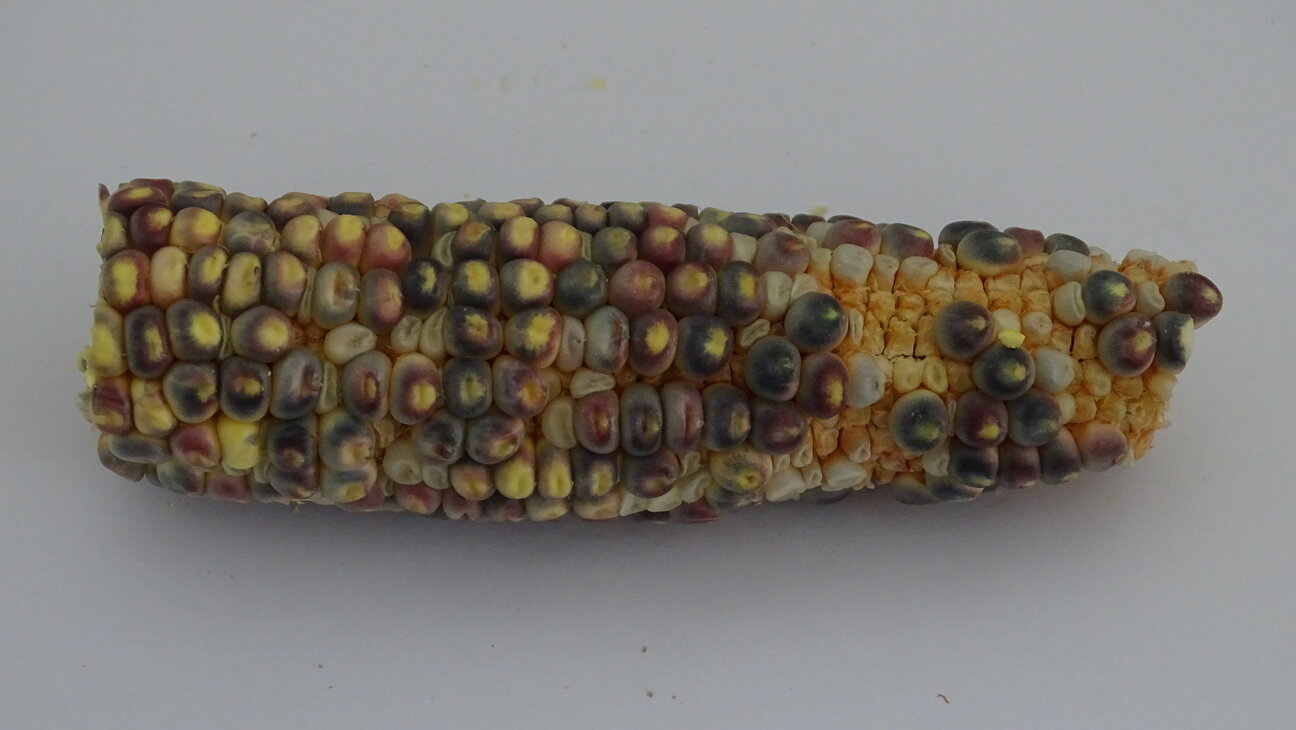corn: (936, 301, 994, 357)
